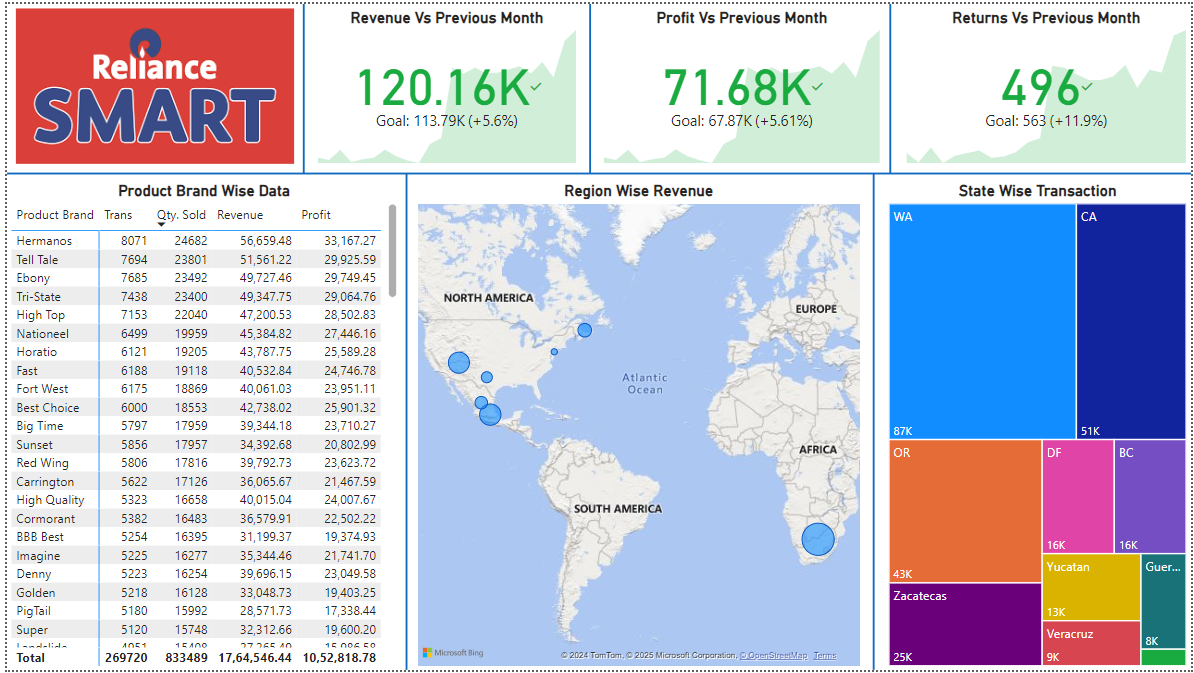

The dashboard page shown, as its layout file describes it:
{"tool":"powerbi","page":{"name":"Page 1","canvas":[1280,720],"ordinal":0},"visuals":[{"type":"image","box":[0,0,320,177.5],"z":0},{"type":"shape","box":[0,177.5,1280,12.5],"z":1000},{"type":"shape","box":[311.2,0,20,183.8],"z":2000},{"type":"shape","box":[426.2,183.8,12.5,536.2],"z":3000},{"type":"shape","box":[926.2,183.8,22.5,536.2],"z":4000},{"type":"pivotTable","title":"Product Brand Wise Data","fields":{"Rows":["d_Products.product_brand"],"Values":["Measure.M_Total_Transaction","Measure.M_Quantity_Sold","Measure.M_Total_Revenue","Measure.M_Total_Profit"]},"box":[0,191.2,426.2,528.8],"z":5000},{"type":"map","title":"Region Wise Revenue","fields":{"Category":["d_Regions.sales_region"],"Size":["Measure.M_Total_Revenue"]},"box":[438.8,191.2,487.5,528.8],"z":6000},{"type":"treemap","title":"State Wise Transaction","fields":{"Group":["d_Stores.store_state"],"Values":["Measure.M_Total_Transaction"]},"box":[948.8,191.2,331.2,528.8],"z":7000},{"type":"shape","box":[620.3,0,20.3,183.8],"z":8000},{"type":"kpi","title":"Revenue Vs Previous Month","fields":{"Indicator":["Measure.M_Total_Revenue"],"TrendLine":["d_Calendar.Start of Month"],"Goal":["Measure.M_Previos_Month_Revenue"]},"box":[331.1,4.1,289.2,173],"z":9000},{"type":"shape","box":[948.8,0,12.5,183.8],"z":10000},{"type":"kpi","title":"Profit Vs Previous Month","fields":{"TrendLine":["d_Calendar.Start of Month"],"Indicator":["Measure.M_Total_Profit"],"Goal":["Measure.M_Previous_Month_Profit"]},"box":[640.5,4.1,308.1,173],"z":11000},{"type":"kpi","title":"Returns Vs Previous Month","fields":{"TrendLine":["d_Calendar.Start of Month"],"Indicator":["Measure.M_Total_Return"],"Goal":["Measure.M_Previos_Month_Returns"]},"box":[967.6,4.1,312.2,173],"z":12000}]}

Visuals, with their boxes in screenshot pixels (x1, y1, x2, y2), scaled from the page's 1280x720 canvas onto the 1194x673 screenshot:
image: box(0, 0, 298, 166)
shape: box(0, 166, 1193, 178)
shape: box(290, 0, 309, 172)
shape: box(398, 172, 409, 672)
shape: box(864, 172, 885, 672)
"Product Brand Wise Data" pivotTable: box(0, 179, 398, 672)
"Region Wise Revenue" map: box(409, 179, 864, 672)
"State Wise Transaction" treemap: box(885, 179, 1193, 672)
shape: box(579, 0, 598, 172)
"Revenue Vs Previous Month" kpi: box(309, 4, 579, 166)
shape: box(885, 0, 897, 172)
"Profit Vs Previous Month" kpi: box(597, 4, 885, 166)
"Returns Vs Previous Month" kpi: box(903, 4, 1193, 166)
